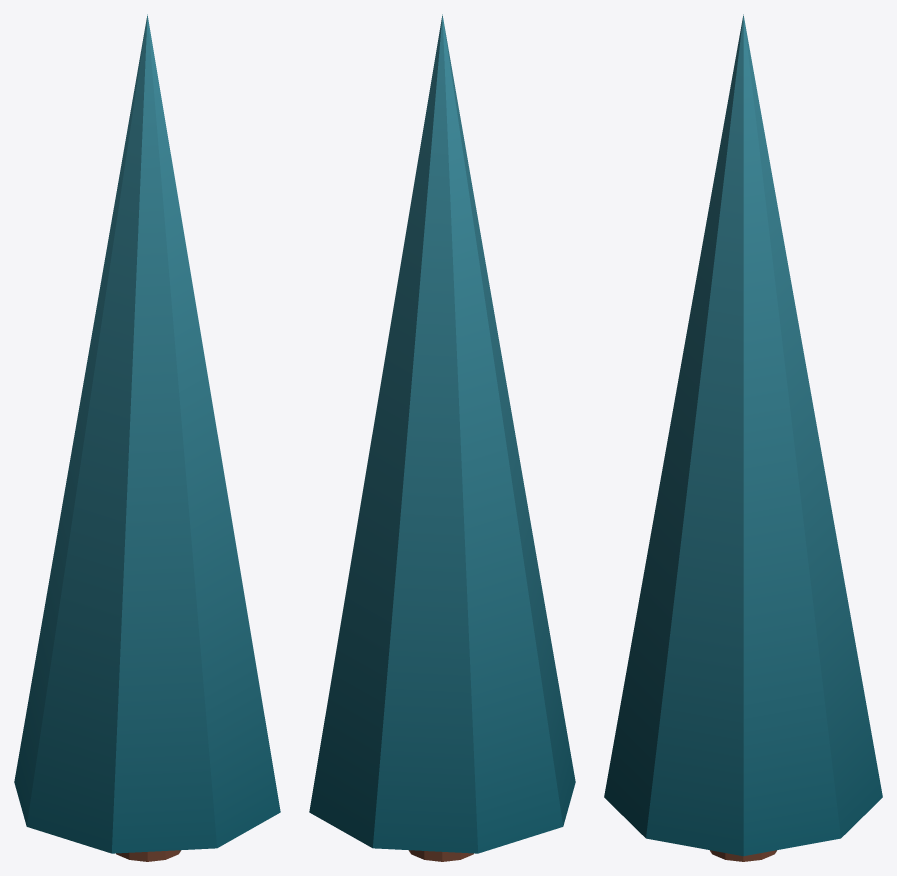
Rendered from Tree_24_gradient_blue_vc.fbx.
The picture shows the model from 3 angles, left to right: view 1: azimuth 30°, elevation 25°; view 2: azimuth 150°, elevation 25°; view 3: azimuth 270°, elevation 25°; orthographic projection.
Visible parts, largest first — view 1: Tree_24_gradient_blue_vc; view 2: Tree_24_gradient_blue_vc; view 3: Tree_24_gradient_blue_vc.
Part boxes in pixels (left/top/right/bottom): Tree_24_gradient_blue_vc: left=14, top=14, right=280, bottom=861; Tree_24_gradient_blue_vc: left=309, top=14, right=575, bottom=861; Tree_24_gradient_blue_vc: left=604, top=14, right=882, bottom=861.
Size of the model in its own units: 85.35 by 281 by 85.35.
